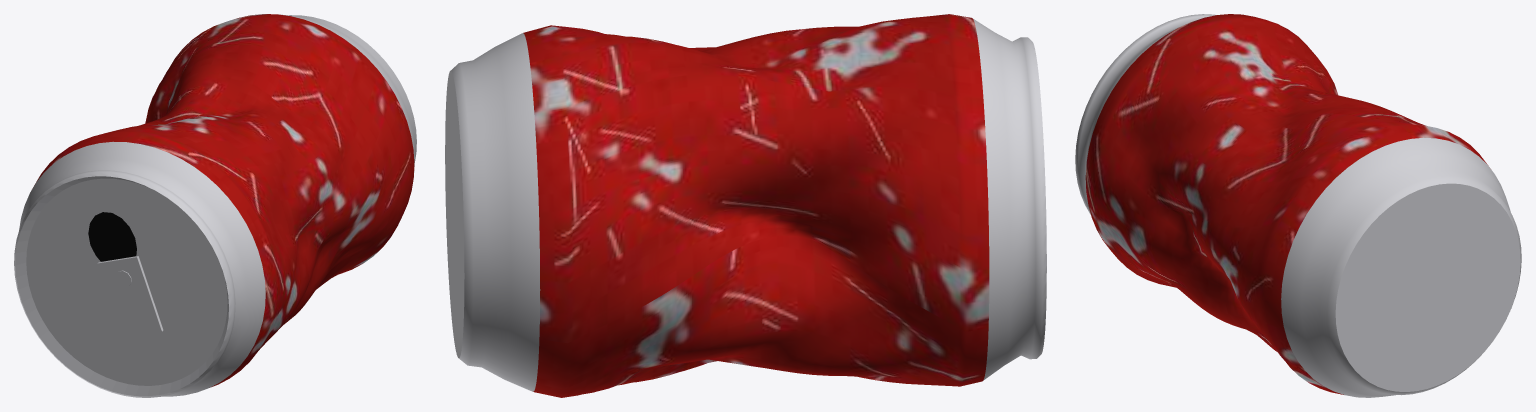
Rendered from CrushedSodaCan.glb.
3 renders of one model, left to right at view 1: azimuth 30°, elevation 25°; view 2: azimuth 150°, elevation 25°; view 3: azimuth 270°, elevation 25°, orthographic. The views are drawn at different scales.
Visible parts, largest first — view 1: CrushedSodaCan; view 2: CrushedSodaCan; view 3: CrushedSodaCan.
Part boxes in pixels (<box>): CrushedSodaCan: <box>14,14,416,397</box>; CrushedSodaCan: <box>445,14,1046,397</box>; CrushedSodaCan: <box>1075,14,1521,397</box>.
Bounding box in the file's own units: 0.1154 × 0.066 × 0.1022.
Materials: 3 (1 with a texture image).
